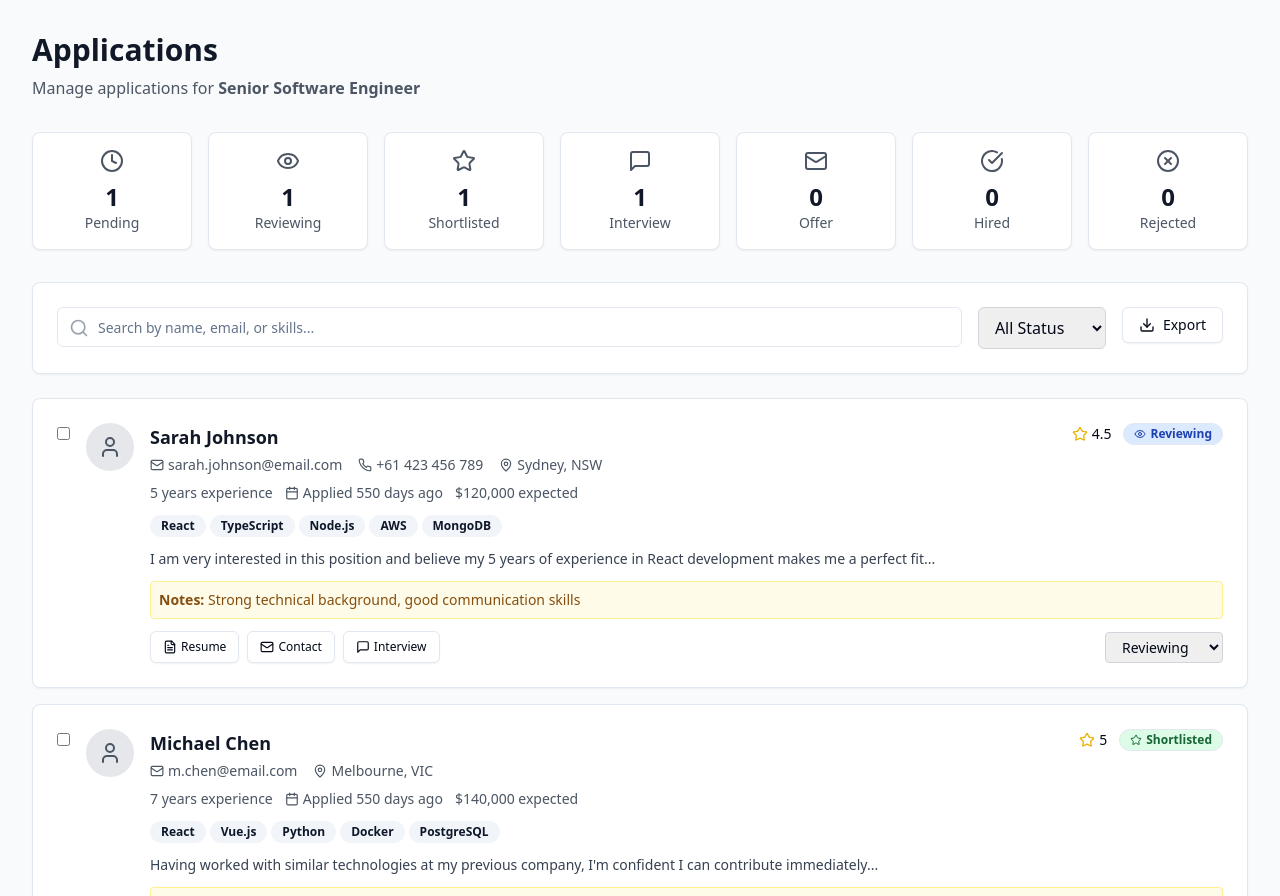
Test case: JobApplicationsManagementPage › handles application selection and bulk actions
Expected: the heading "Sarah Johnson" is shown, [150,425,279,449]
# Select first application
Click the checkbox next to "Sarah Johnson".
click(64, 434)  # box [57,427,70,440]
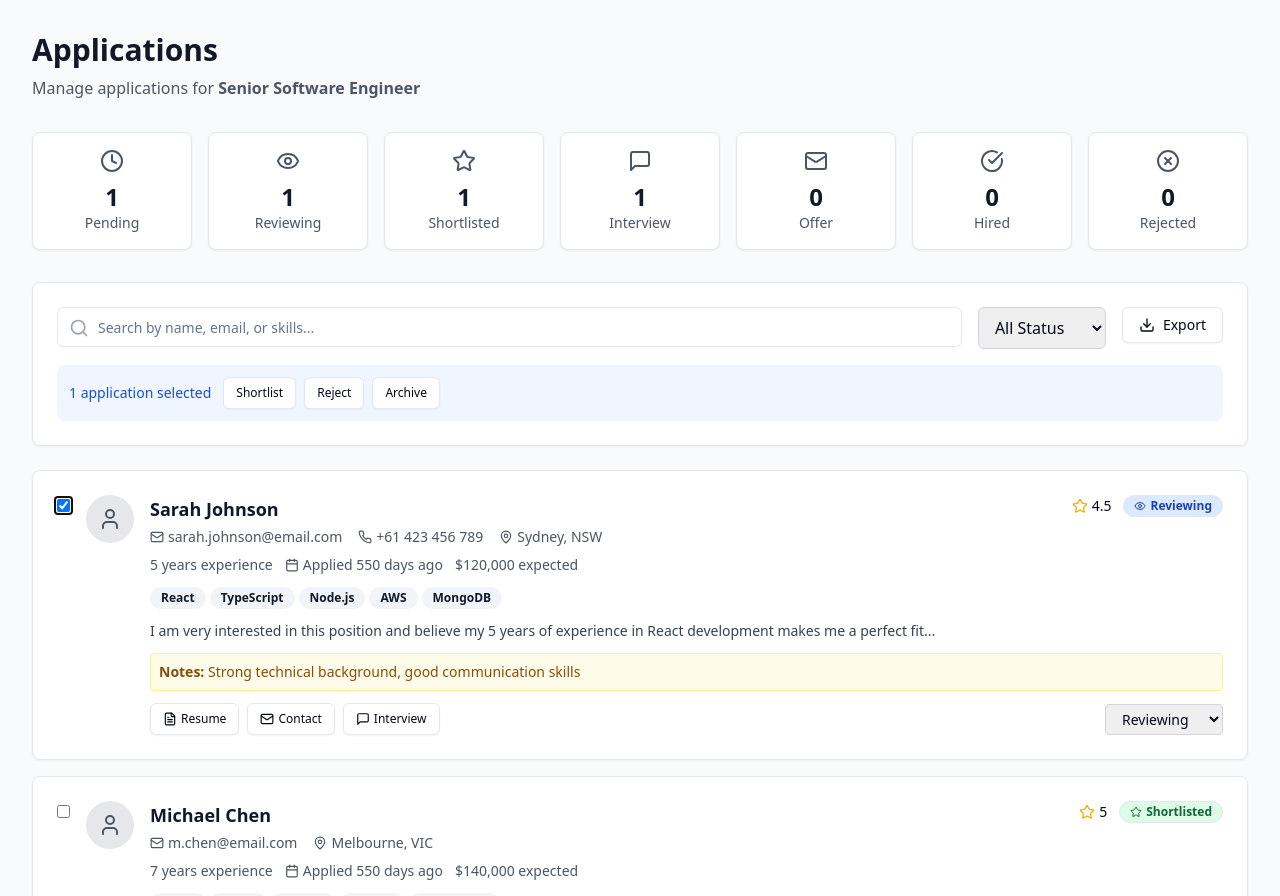
Now the text "1 application selected" is shown, box [69,383,211,403]
Now the button "Shortlist" is shown, box [223,377,296,409]
Now the button "Reject" is shown, box [304,377,364,409]
